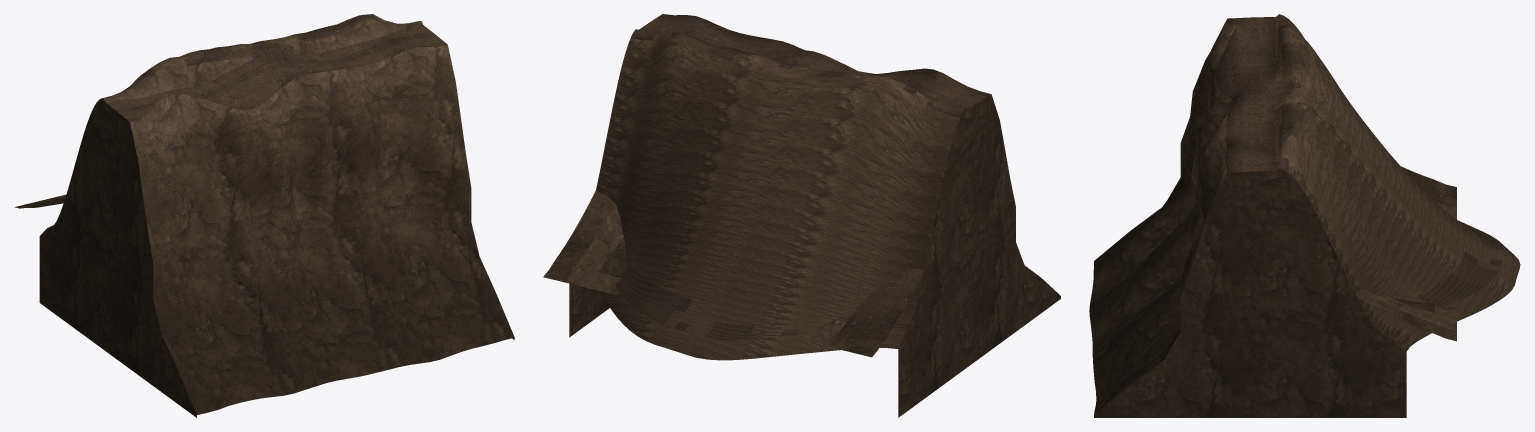
File: seacliff_straight6_h3_v5_dead.glb
The picture shows the model from 3 angles, left to right: view 1: azimuth 30°, elevation 25°; view 2: azimuth 150°, elevation 25°; view 3: azimuth 270°, elevation 25°; orthographic projection. The views are drawn at different scales.
Visible parts, largest first — view 1: seacliff_straight6_h3; view 2: seacliff_straight6_h3; view 3: seacliff_straight6_h3.
Part boxes in pixels (x1,y1,x2,y2): seacliff_straight6_h3: (14,14,514,417); seacliff_straight6_h3: (543,14,1060,417); seacliff_straight6_h3: (1089,14,1520,417).
Size of the model in its own units: 6 by 4.87 by 7.09.
Materials: 2 (2 with a texture image).
